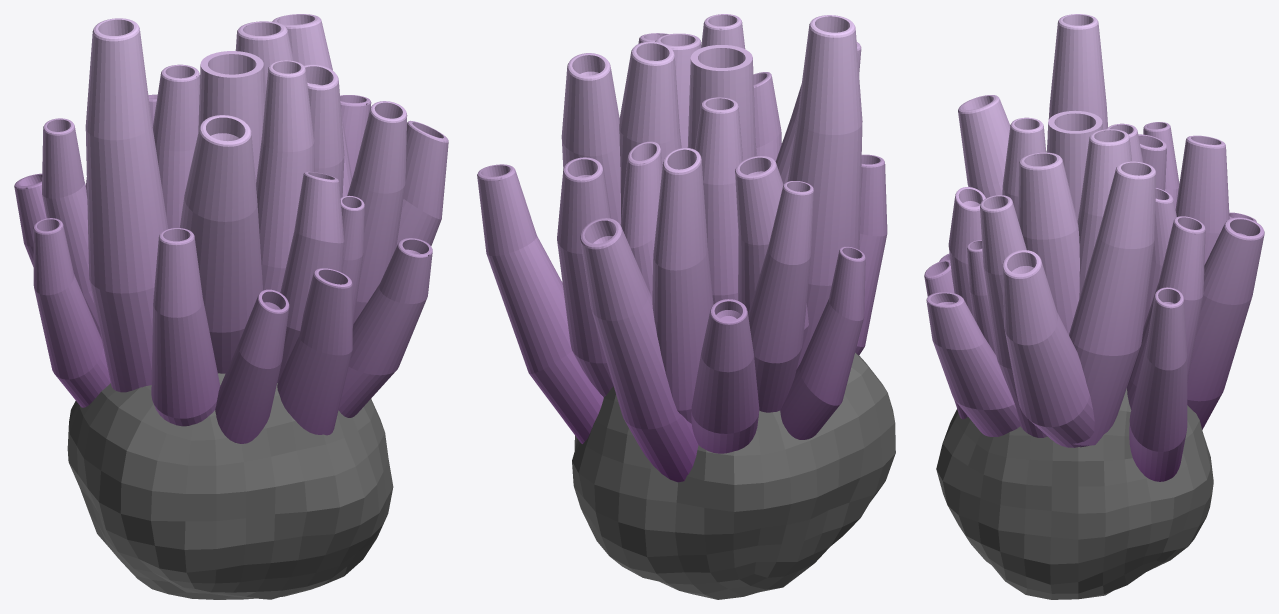
Rendered from Object_Coral_01.fbx.
3 views of the same model, side by side, from view 1: azimuth 30°, elevation 25°; view 2: azimuth 150°, elevation 25°; view 3: azimuth 270°, elevation 25° (orthographic). The views are drawn at different scales.
Parts seen in each view (by area): view 1: CylinderCoralBranch.024, CoralBase; view 2: CylinderCoralBranch.024, CoralBase; view 3: CylinderCoralBranch.024, CoralBase.
Part boxes in pixels (left/top/right/bottom): CylinderCoralBranch.024: left=14, top=14, right=448, bottom=443; CoralBase: left=67, top=373, right=393, bottom=599; CylinderCoralBranch.024: left=477, top=14, right=887, bottom=482; CoralBase: left=572, top=352, right=895, bottom=599; CylinderCoralBranch.024: left=924, top=14, right=1264, bottom=481; CoralBase: left=936, top=388, right=1213, bottom=599.
Bounding box in the file's own units: 219 × 342 × 207.
